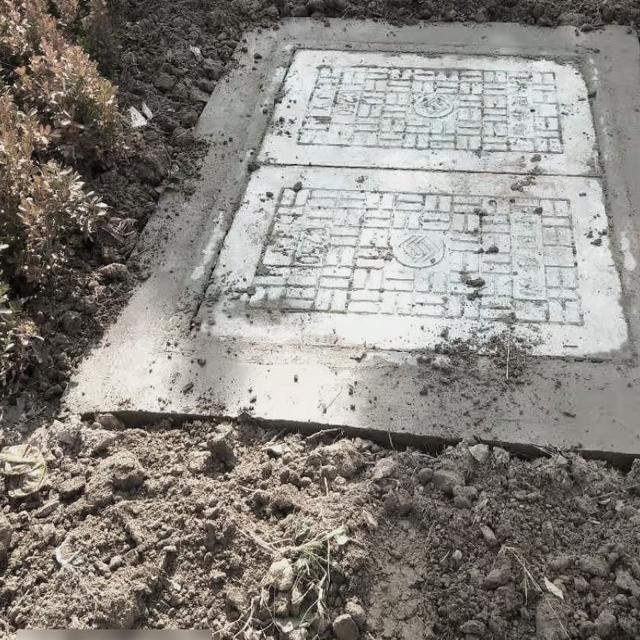good: (101, 0, 640, 416)
